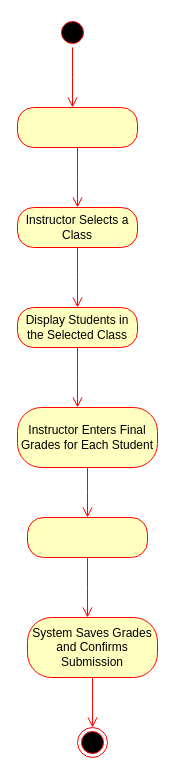
The diagram is 175 pixels wide and 775 high, and some of its shapes have lost their labels. The centre of each missing label's shape, as x and y in pixels:
Display Current Classes: [77,127]
Instructor Submits Grades: [87,537]
